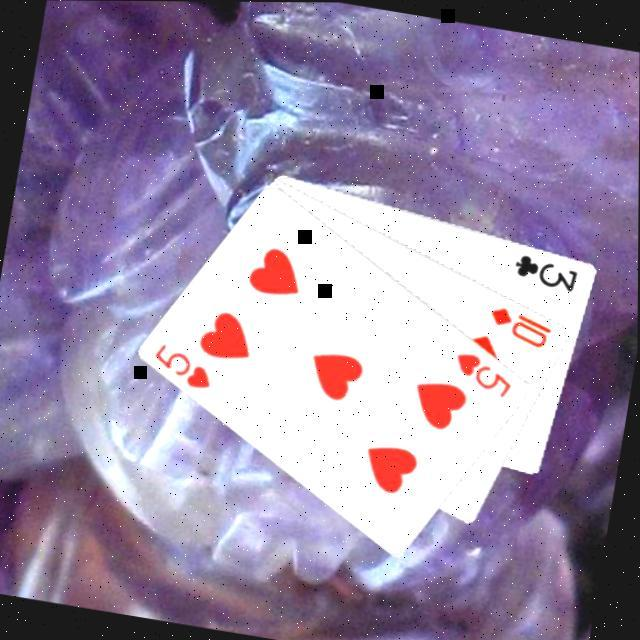10D: (482, 301, 556, 353)
3C: (508, 249, 583, 296)
5H: (447, 347, 519, 403), (148, 338, 220, 394)
